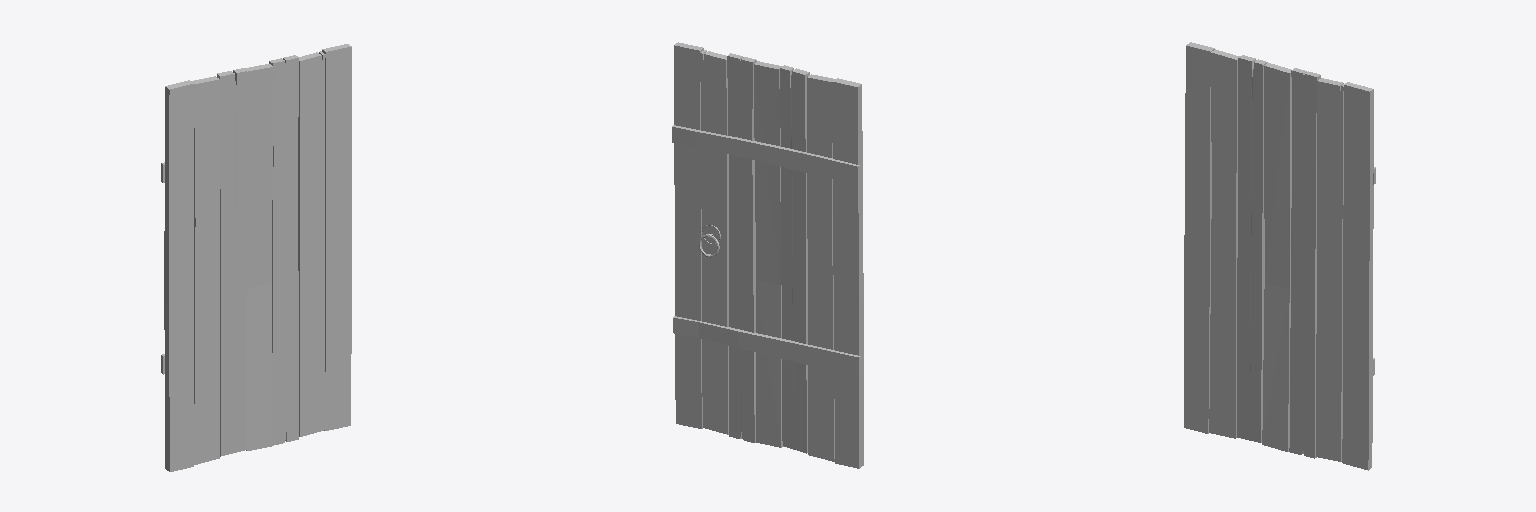
Rendered from Poor medieval door.obj.
The picture shows the model from 3 angles: view 1: azimuth 30°, elevation 25°; view 2: azimuth 150°, elevation 25°; view 3: azimuth 330°, elevation 25°; orthographic projection.
Parts seen in each view (by area): view 1: Torus; view 2: Torus; view 3: Torus.
Boxes of the visible parts, x1=… form: Torus: x1=161, y1=44, x2=351, y2=471; Torus: x1=672, y1=42, x2=863, y2=468; Torus: x1=1184, y1=42, x2=1375, y2=470.
Size of the model in its own units: 1.13 by 2.21 by 0.1005.